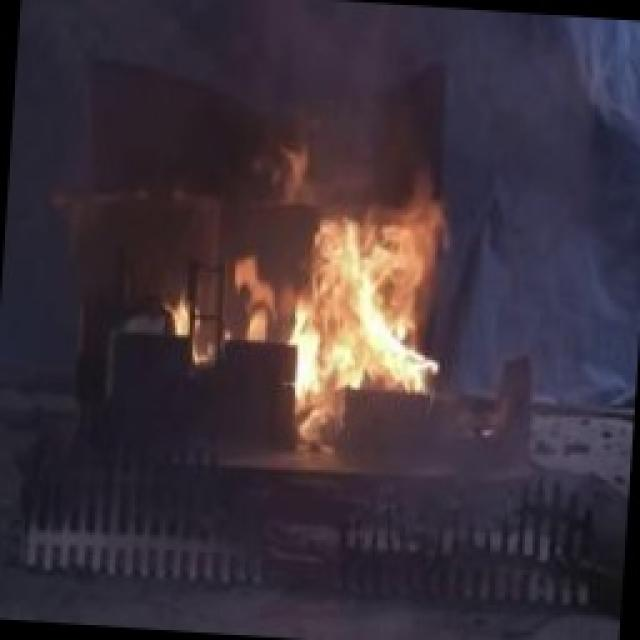fire: (239, 105, 461, 423)
